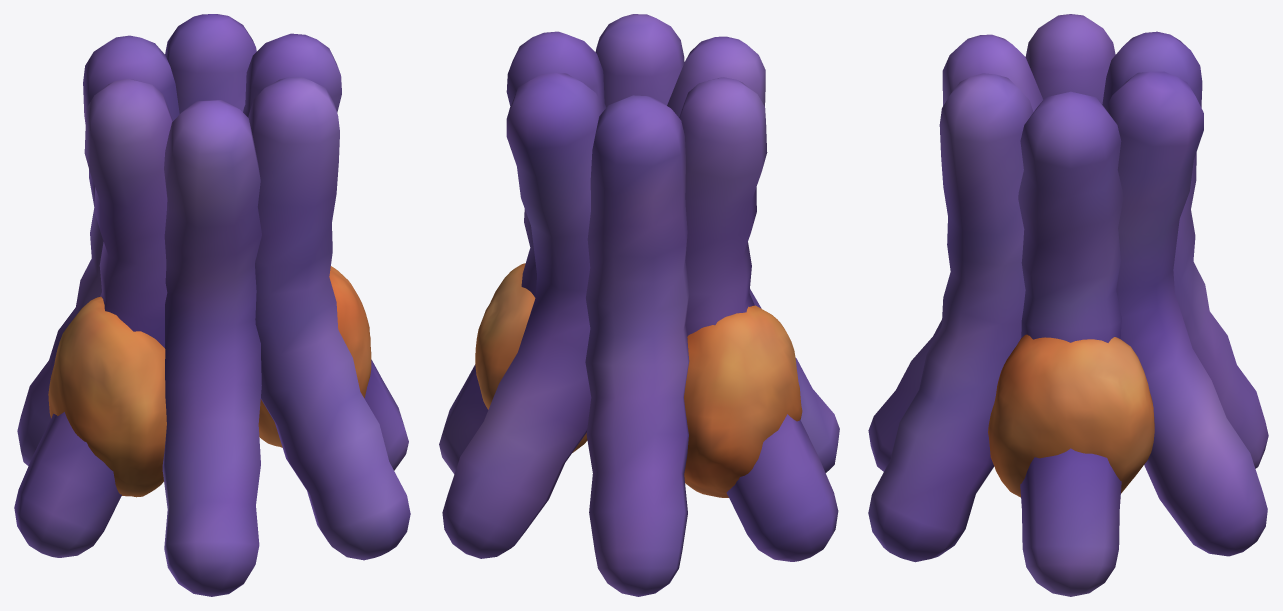
The model's file is carrier-protein-b.glb.
The picture shows the model from 3 angles, left to right: view 1: azimuth 30°, elevation 25°; view 2: azimuth 150°, elevation 25°; view 3: azimuth 270°, elevation 25°; orthographic projection.
Visible parts, largest first — view 1: carrier-protein-b-helices, carrier-protein-b-domains; view 2: carrier-protein-b-helices, carrier-protein-b-domains; view 3: carrier-protein-b-helices, carrier-protein-b-domains.
Part boxes in pixels (x1,y1,x2,y2): carrier-protein-b-helices: [14, 14, 410, 596]; carrier-protein-b-domains: [48, 266, 371, 497]; carrier-protein-b-helices: [439, 14, 839, 596]; carrier-protein-b-domains: [475, 263, 802, 497]; carrier-protein-b-helices: [868, 14, 1268, 596]; carrier-protein-b-domains: [988, 334, 1154, 497].
Size of what is drawn, in the model's own units: 1.3 by 1.49 by 1.16.
